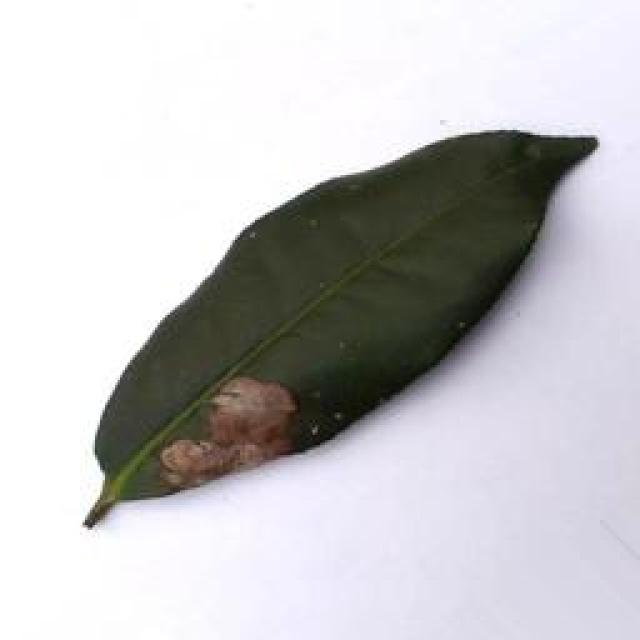Gray Blight: (83, 131, 601, 533)
